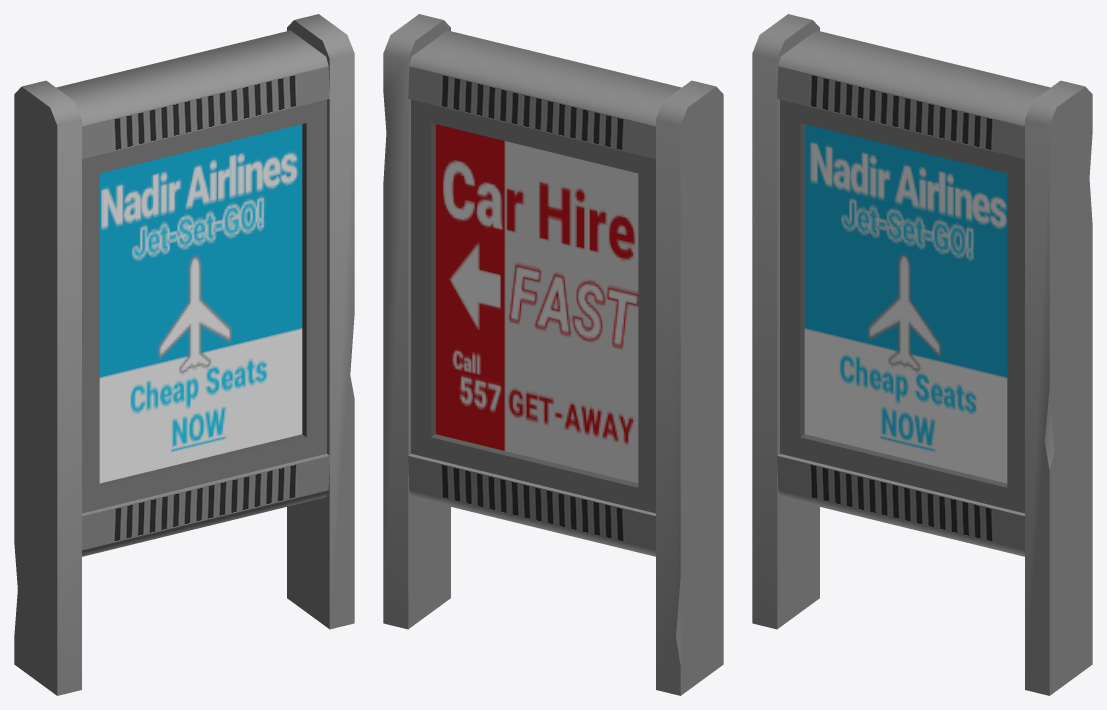
File: SW_PROP_AdvertisingStand_02.fbx
3 renders of one model, left to right at view 1: azimuth 30°, elevation 25°; view 2: azimuth 150°, elevation 25°; view 3: azimuth 330°, elevation 25°, orthographic.
Parts seen in each view (by area): view 1: SW_PROP_AdvertisingStand_02; view 2: SW_PROP_AdvertisingStand_02; view 3: SW_PROP_AdvertisingStand_02.
Part boxes in pixels (<box>): SW_PROP_AdvertisingStand_02: <box>14,14,354,695</box>; SW_PROP_AdvertisingStand_02: <box>383,14,723,695</box>; SW_PROP_AdvertisingStand_02: <box>752,14,1092,695</box>.
Bounding box in the file's own units: 1.2 × 2.25 × 0.3.
